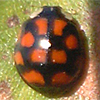Rash: (13, 5, 81, 86)
